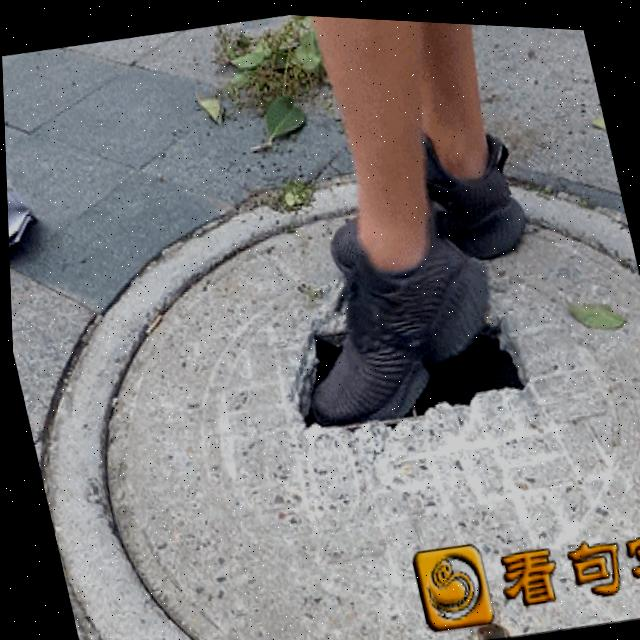manhole: (19, 124, 640, 640)
